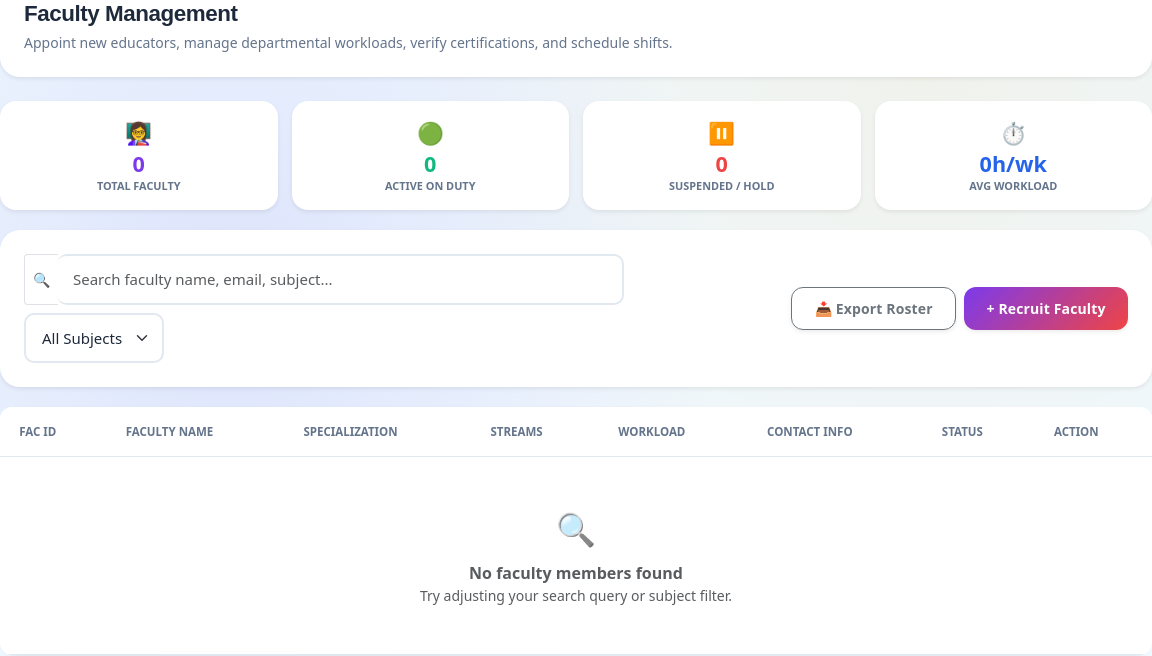
FacultyManagement Admin Page Tests › submits recruit faculty form and refreshes list on success
The width and height of the screenshot is (1152, 656).
Click the button with test id "open-recruit-btn": (1046, 308) [964,287,1128,330]
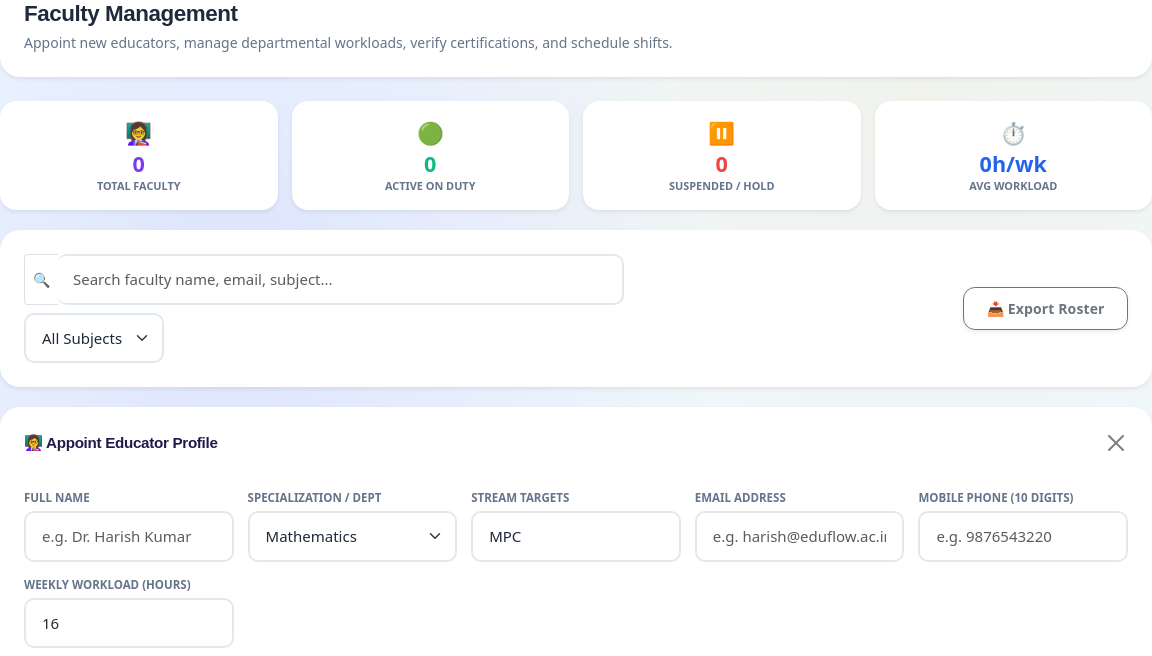
Note: Fill form
In the field with placeholder "e.g. Dr. Harish Kumar": (129, 536) [24,511,234,562], type "Dr. Harish Kumar"
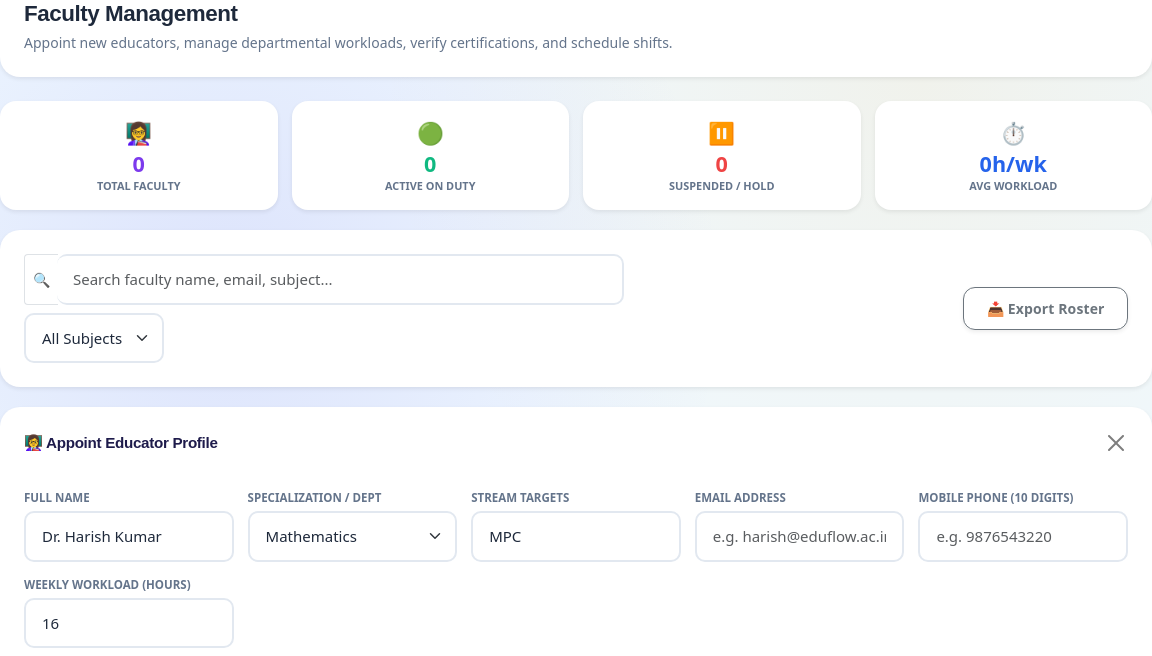
In the field with placeholder "e.g. harish@eduflow.ac.in": (800, 536) [695,511,904,562], type "harish@eduflow.ac.in"
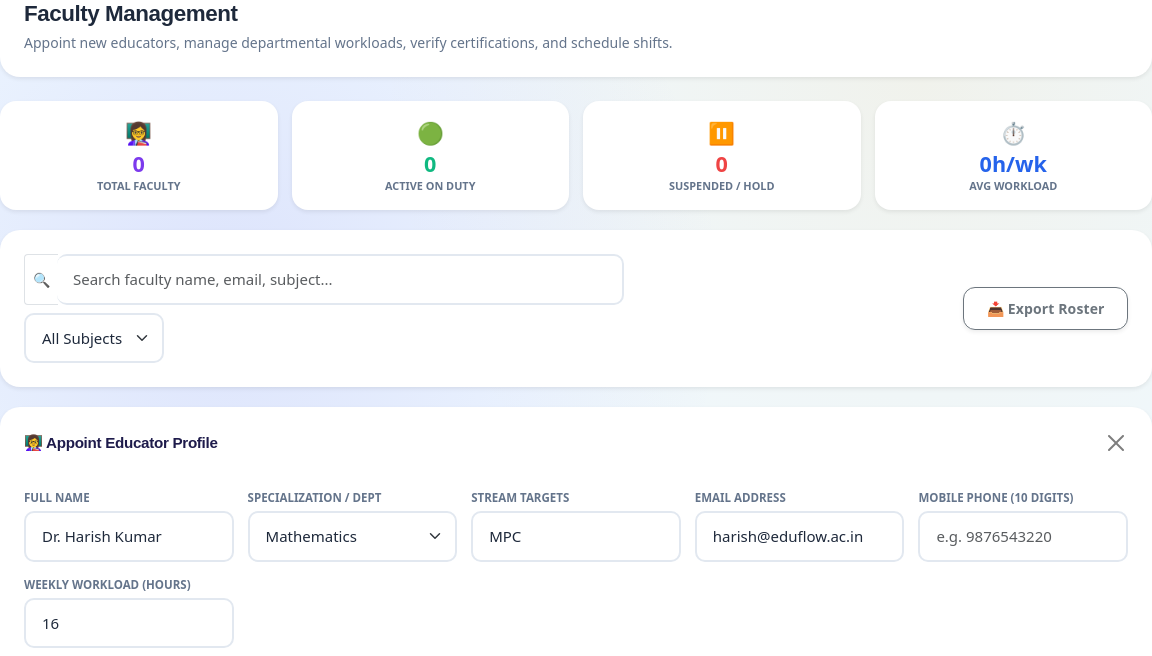
In the field with placeholder "e.g. 9876543220": (1023, 536) [918,511,1128,562], type "9876543220"
(page scrolled)
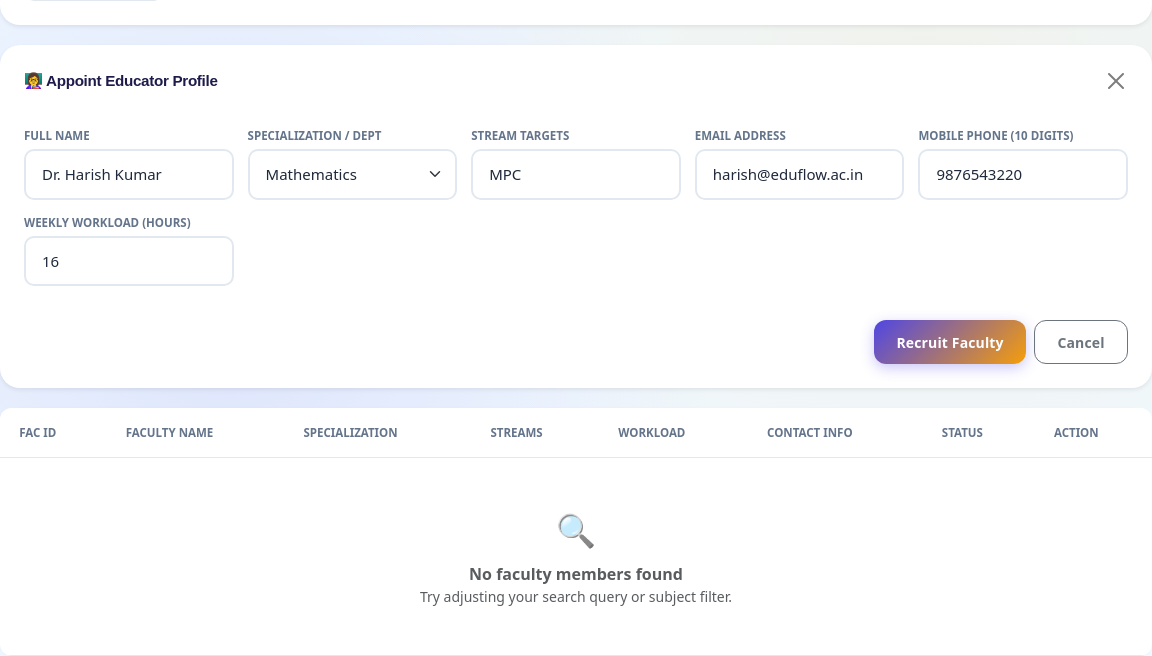
Click the button with test id "submit-recruit-btn": (950, 342) [874,320,1026,364]
(page scrolled)
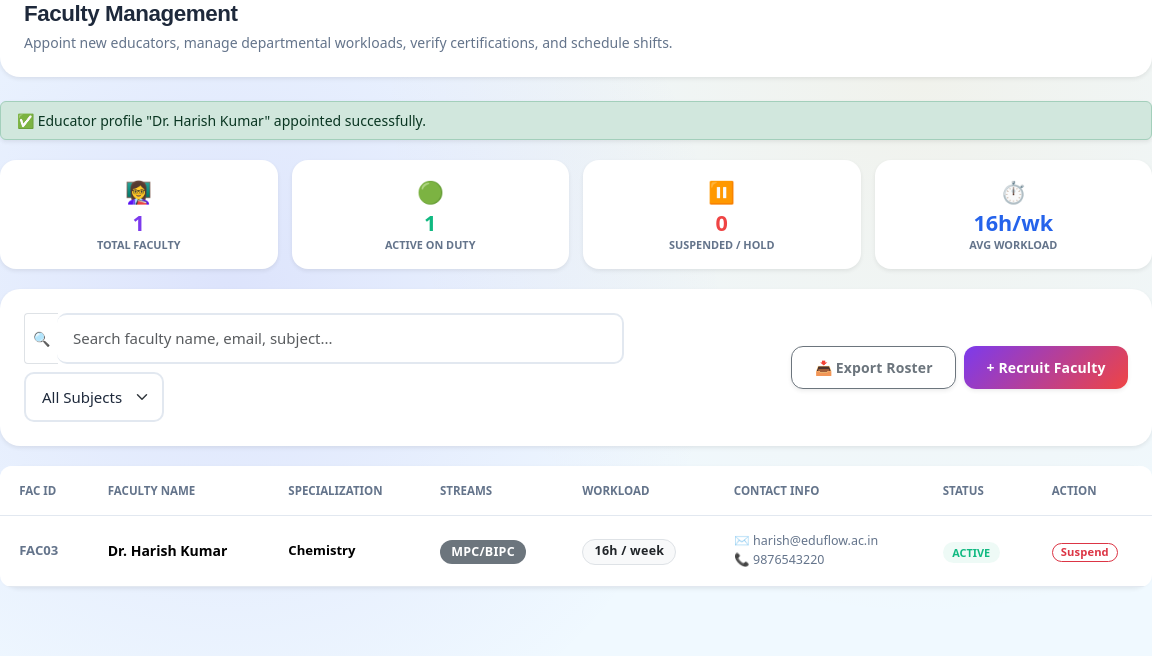
Expected: the text "✅ Educator profile \"Dr. Harish Kumar\" appointed successfully." is shown, [0,101,1151,140]
